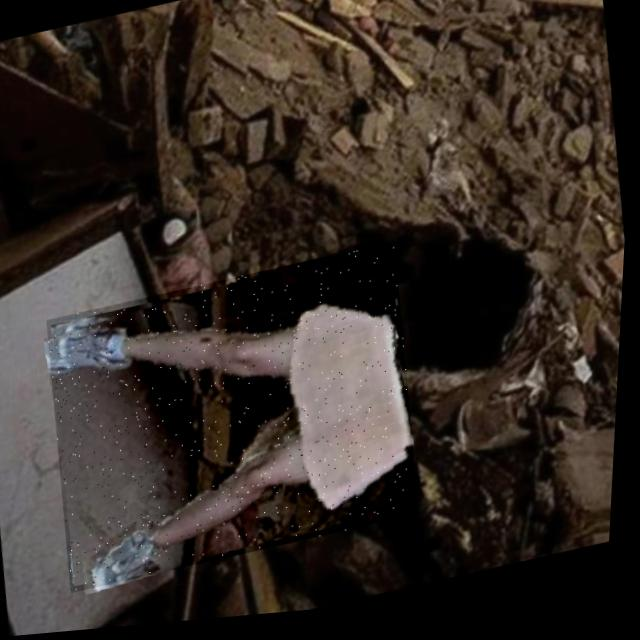Person in Rubble: (38, 246, 435, 598)
